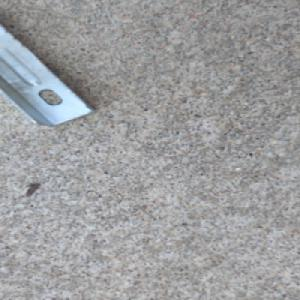ClampPart: (0, 20, 100, 128)
